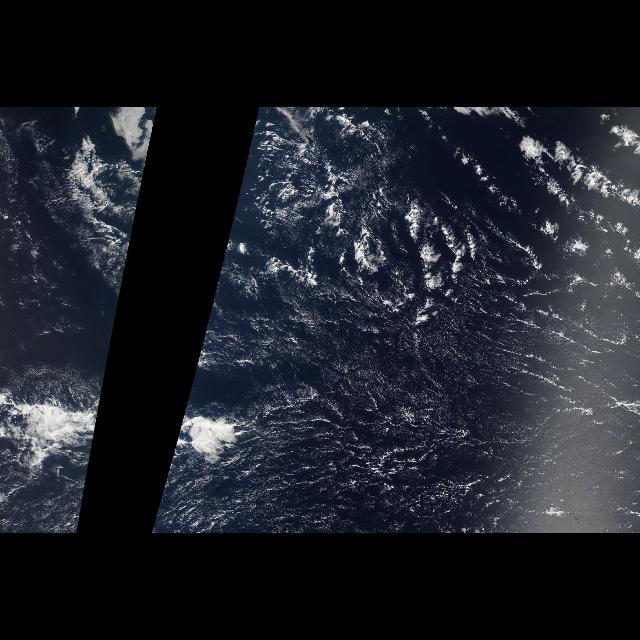Gravel: (260, 113, 380, 280)
Sugar: (149, 271, 639, 534), (3, 467, 88, 533)
